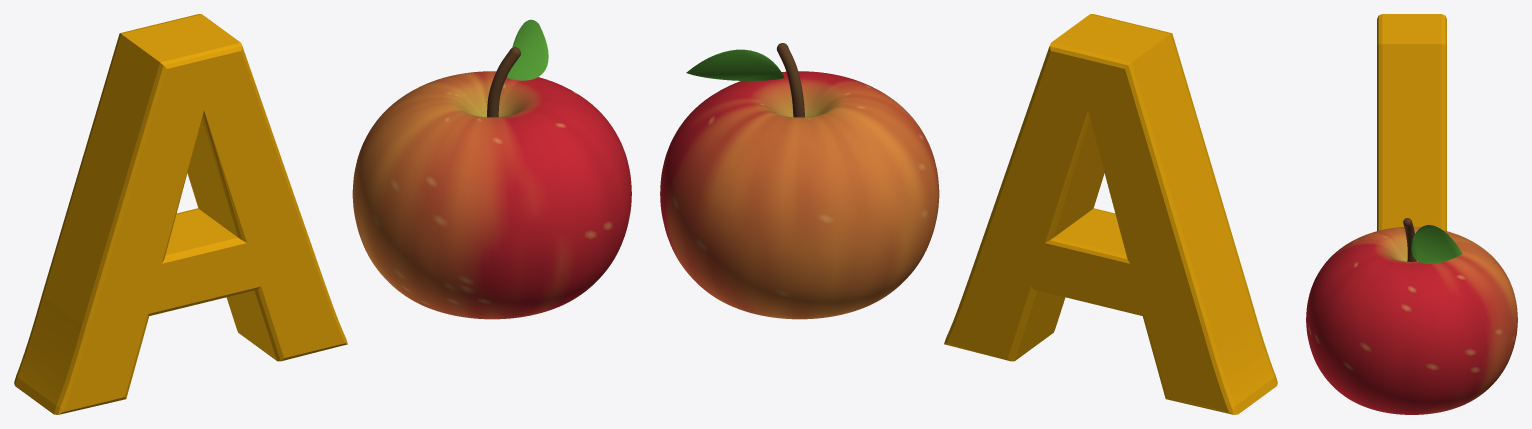
File: apple-ar.glb
3 renders of one model, left to right at view 1: azimuth 30°, elevation 25°; view 2: azimuth 150°, elevation 25°; view 3: azimuth 270°, elevation 25°, orthographic. The views are drawn at different scales.
Visible parts, largest first — view 1: Letter A, Apple; view 2: Letter A, Apple; view 3: Apple, Letter A.
Boxes of the visible parts, <box> form: Letter A: <box>14,14,347,414</box>; Apple: <box>352,19,631,319</box>; Letter A: <box>944,14,1277,414</box>; Apple: <box>660,43,939,319</box>; Apple: <box>1306,218,1517,414</box>; Letter A: <box>1377,14,1446,230</box>.
Bounding box in the file's own units: 0.466 × 0.252 × 0.1947.
